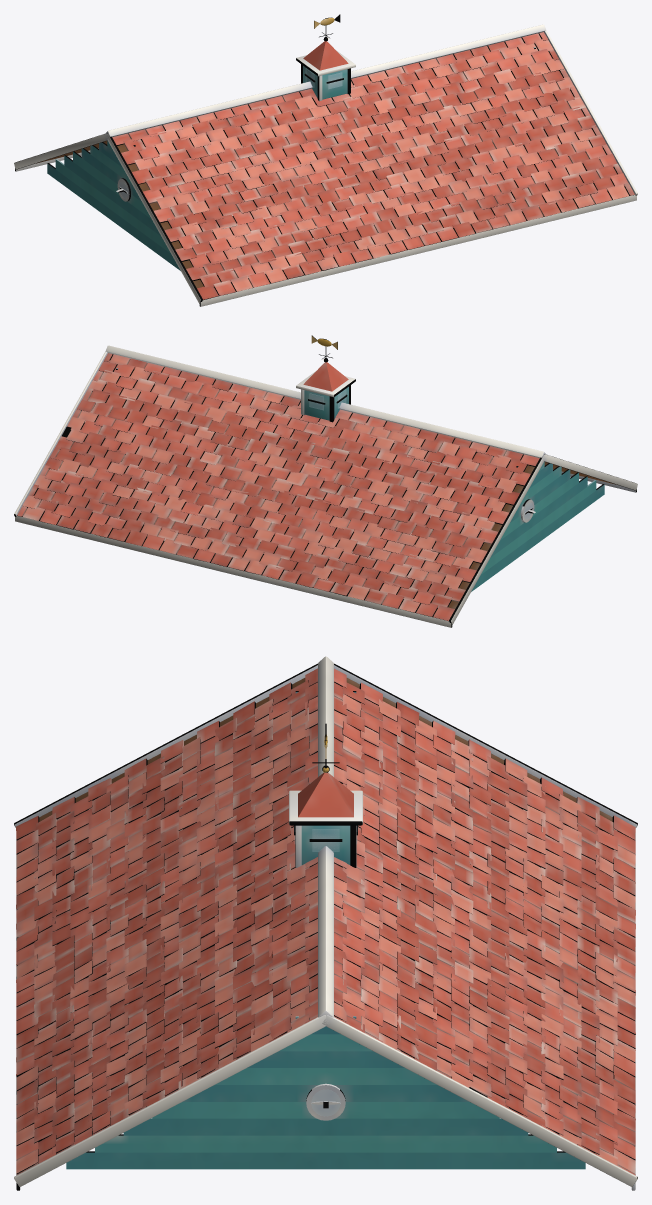
The model's file is museum_roof_1.glb.
3 views of the same model, one above another, from view 1: azimuth 30°, elevation 25°; view 2: azimuth 150°, elevation 25°; view 3: azimuth 270°, elevation 25° (orthographic). The views are drawn at different scales.
Parts seen in each view (by area): view 1: SM_Roof_Shingles, SM_Roof_Fascia, SM_Roof_Gables, SM_Roof_Deck, SM_Roof_Cupola; view 2: SM_Roof_Shingles, SM_Roof_Fascia, SM_Roof_Gables, SM_Roof_Deck, SM_Roof_Cupola; view 3: SM_Roof_Shingles, SM_Roof_Gables, SM_Roof_Fascia, SM_Roof_Cupola, SM_Roof_Deck.
Boxes of the visible parts, bbox=[...] form: SM_Roof_Shingles: bbox=[112, 32, 634, 300]; SM_Roof_Fascia: bbox=[14, 24, 637, 306]; SM_Roof_Gables: bbox=[47, 47, 535, 270]; SM_Roof_Deck: bbox=[36, 34, 628, 291]; SM_Roof_Cupola: bbox=[296, 14, 355, 101]; SM_Roof_Shingles: bbox=[17, 353, 539, 621]; SM_Roof_Fascia: bbox=[14, 345, 637, 627]; SM_Roof_Gables: bbox=[116, 368, 604, 591]; SM_Roof_Deck: bbox=[23, 357, 615, 615]; SM_Roof_Cupola: bbox=[296, 335, 355, 422]; SM_Roof_Shingles: bbox=[16, 668, 635, 1175]; SM_Roof_Gables: bbox=[66, 691, 585, 1169]; SM_Roof_Fascia: bbox=[14, 656, 637, 1190]; SM_Roof_Cupola: bbox=[289, 723, 362, 867]; SM_Roof_Deck: bbox=[39, 678, 612, 821].
Bounding box in the file's own units: 15.34 × 5.64 × 11.38.
2 materials, 1 textured.
